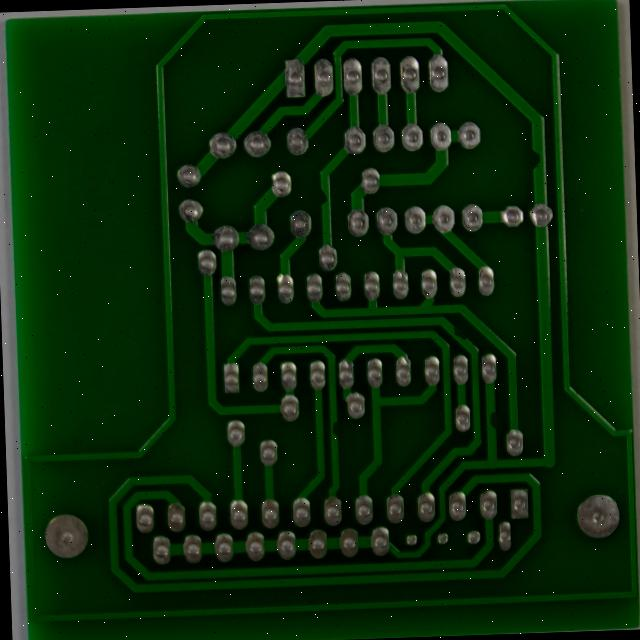mouse_bite: (514, 156, 543, 189), (284, 201, 306, 228), (467, 450, 487, 476), (432, 354, 453, 377), (297, 460, 312, 485)
